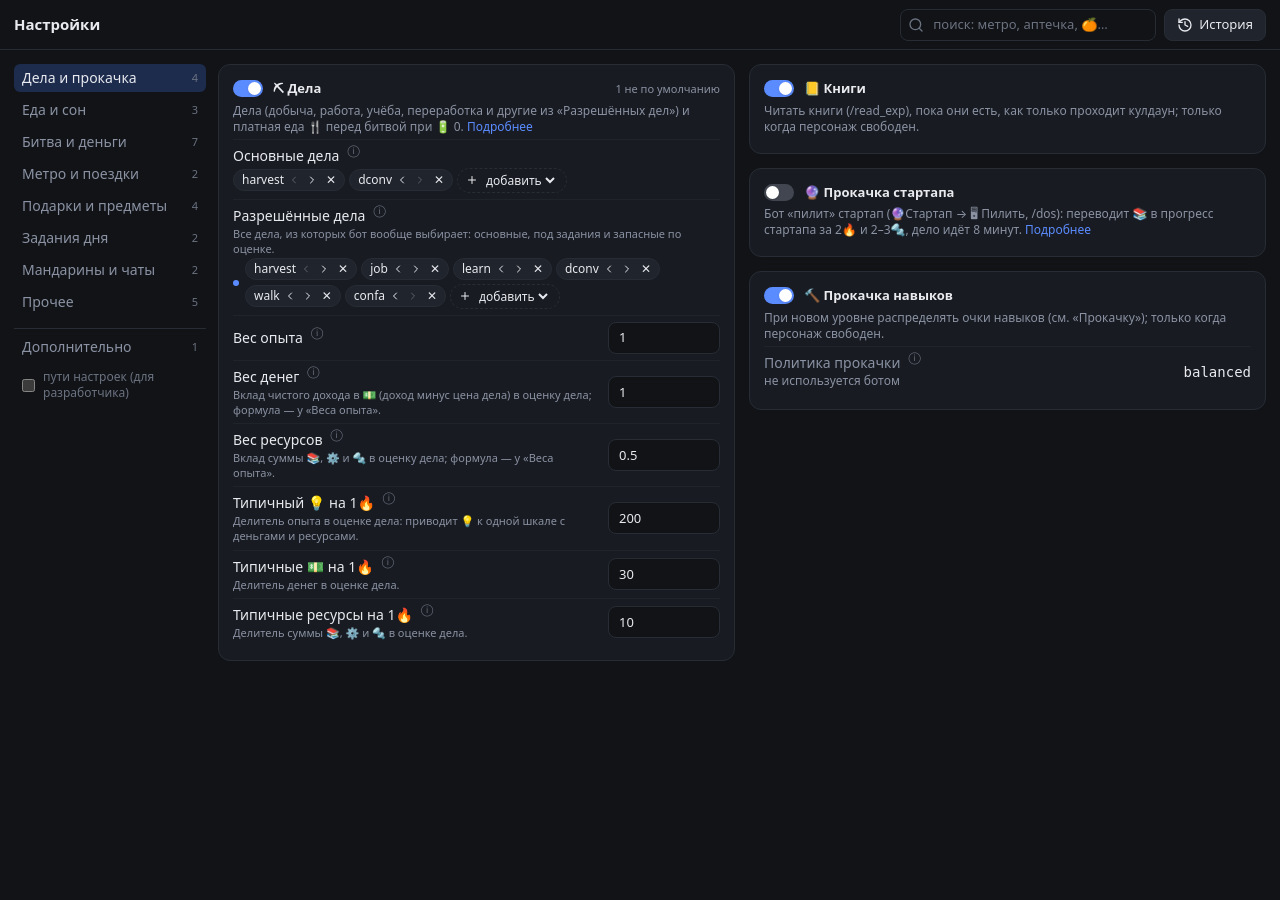
Настройки › механика, которую бот не читает, — приглушена с пометкой, но включается
Click the button "Прочее 5" at (110, 302), box top-left (14, 288), bottom-right (206, 316)
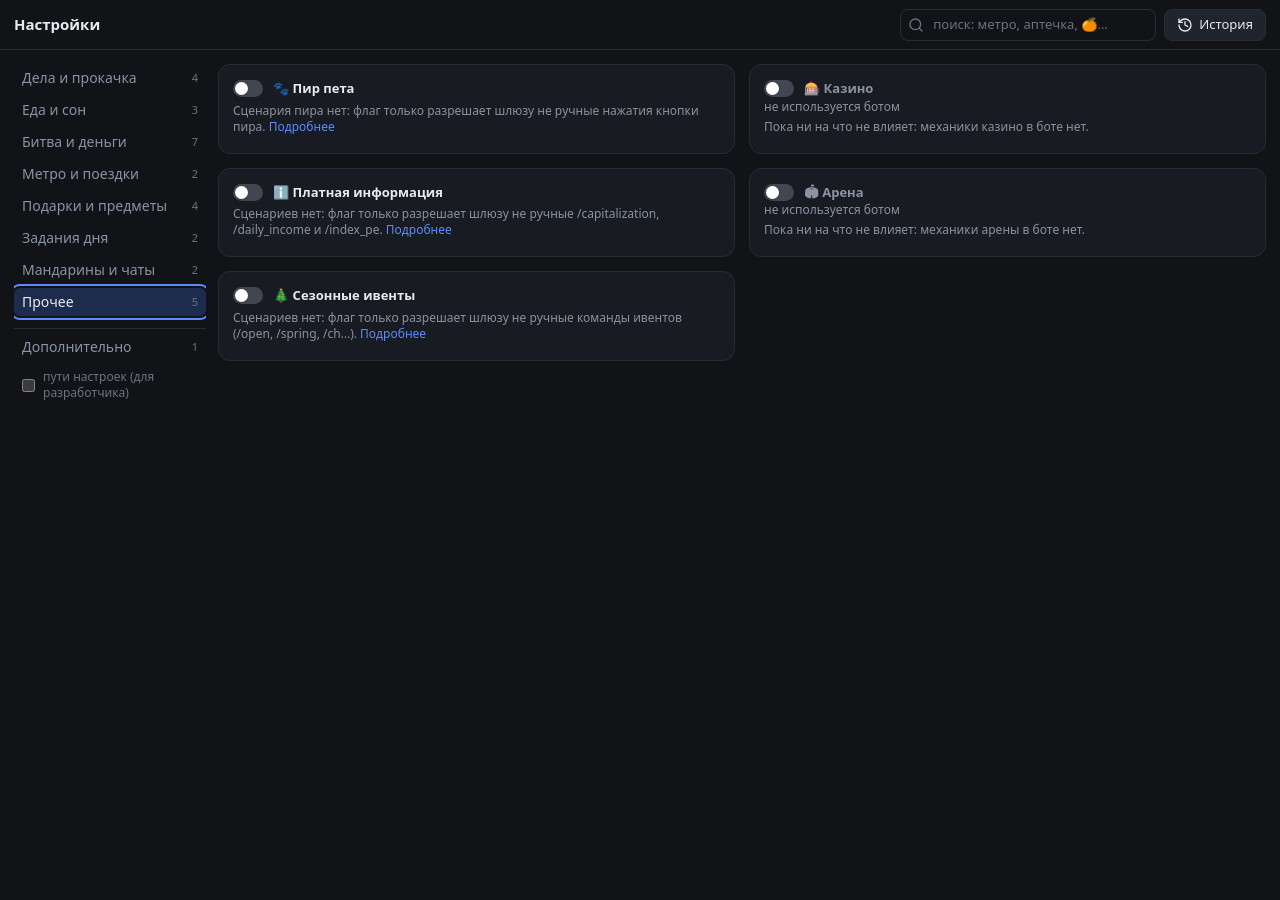
Click the switch named "Казино" at (779, 89), box top-left (764, 80), bottom-right (794, 97)
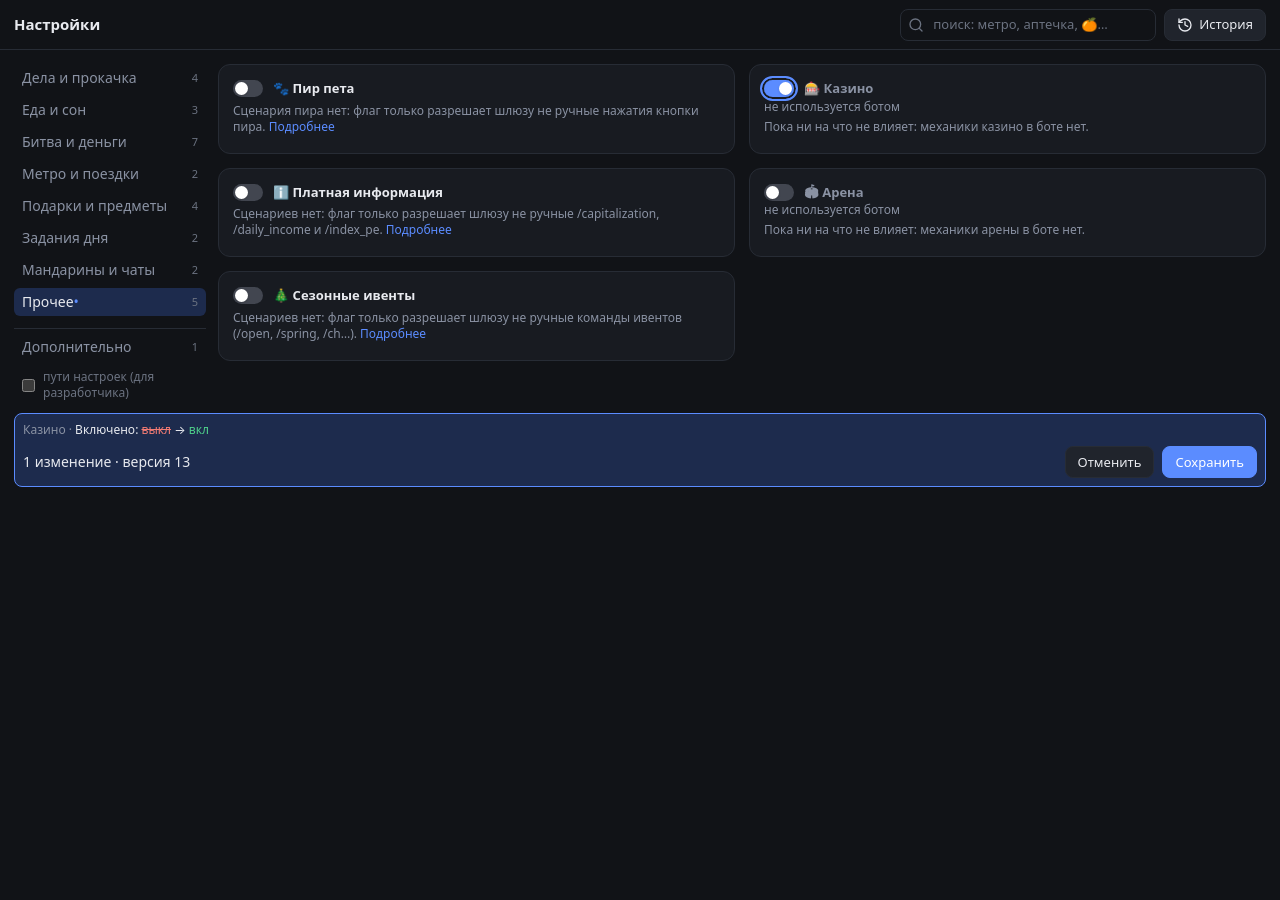
Expected: the element "Пир пета" does not show "не используется ботом", top-left (218, 64), bottom-right (735, 154)
Expected: the element named "Несохранённые изменения" shows "1 изменение", top-left (23, 452), bottom-right (190, 471)
